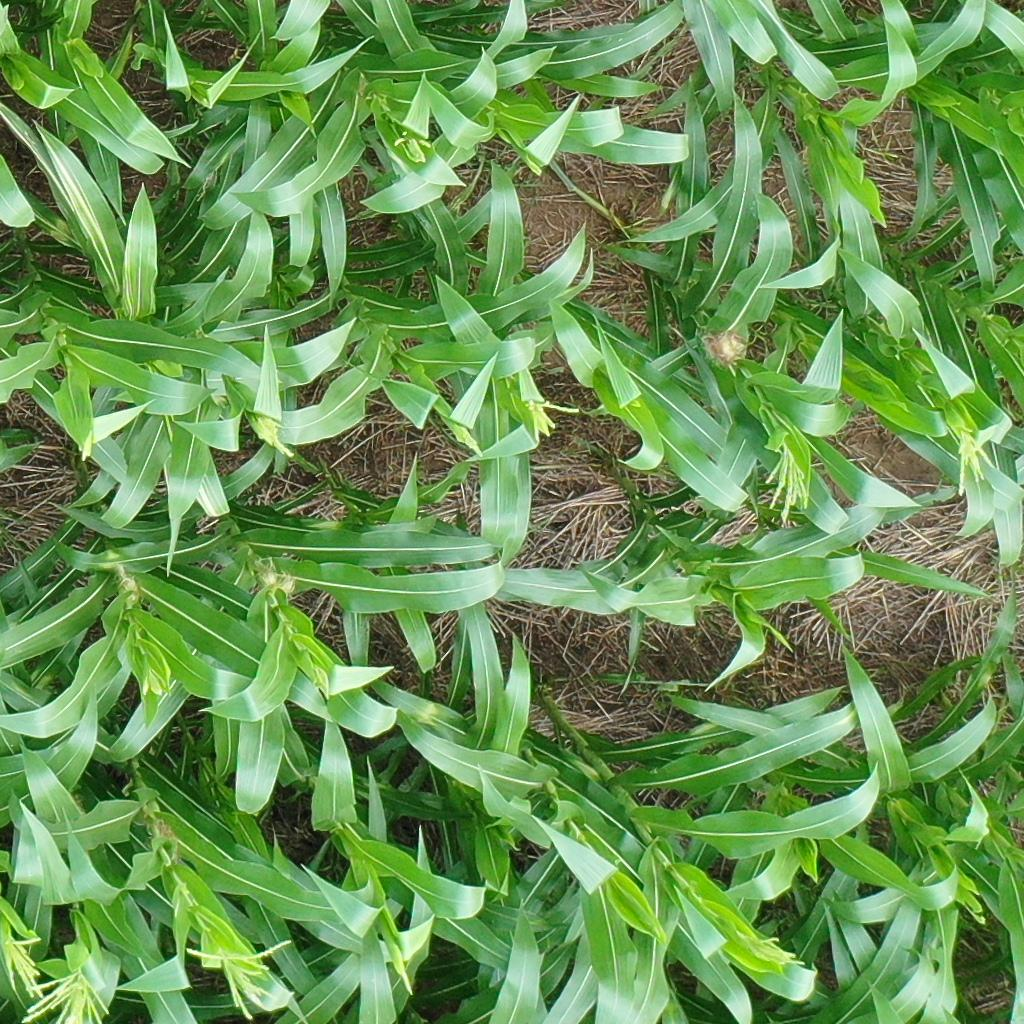Tassel: (184, 937, 293, 1023), (23, 967, 113, 1024), (762, 443, 815, 525), (1, 929, 49, 1002), (949, 423, 995, 498), (736, 926, 803, 969), (525, 394, 581, 445), (250, 413, 297, 456), (442, 420, 489, 459), (391, 130, 433, 164)
